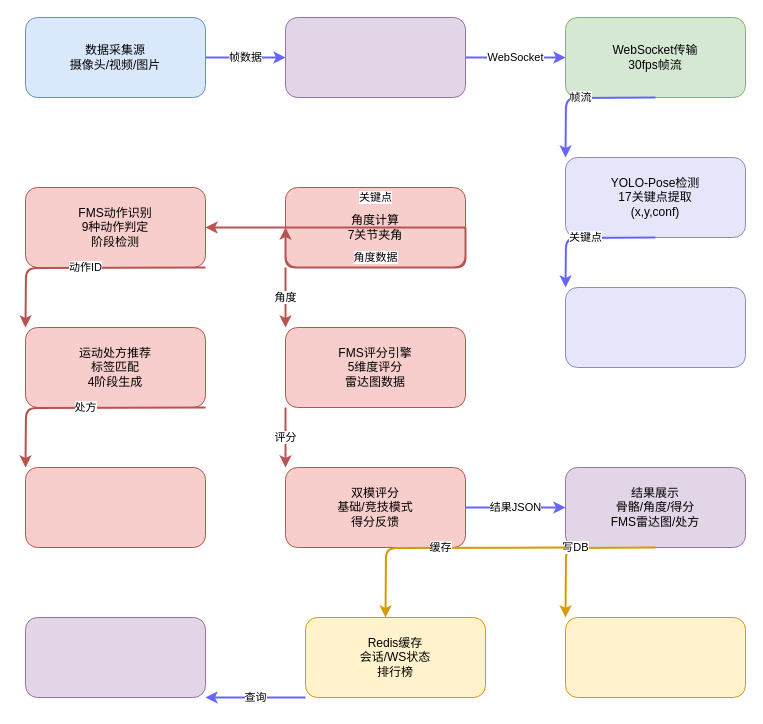
Image size: 763x724. Some labels were removed from this diagram. The centre of each missing label's shape, as x and y in pixels:
MySQL持久化 训练记录/FMS 处方/打卡/统计: point (655, 657)
前端处理 Canvas帧提取 Base64编码: point (375, 57)
姿态后处理 关键点滤波 平滑去噪: point (655, 327)
数据查询 学员管理 班级统计/系统日志: point (115, 657)
纠错TTS 偏差判断 语音播报: point (115, 507)
